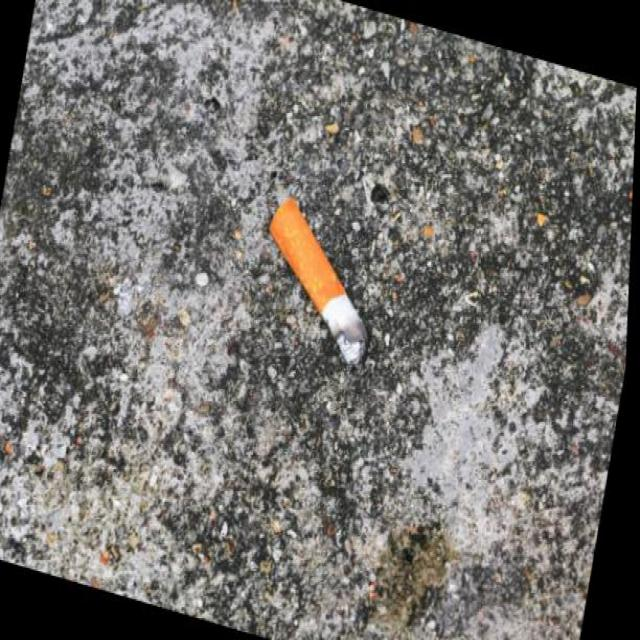cigarette: (249, 187, 396, 375)
